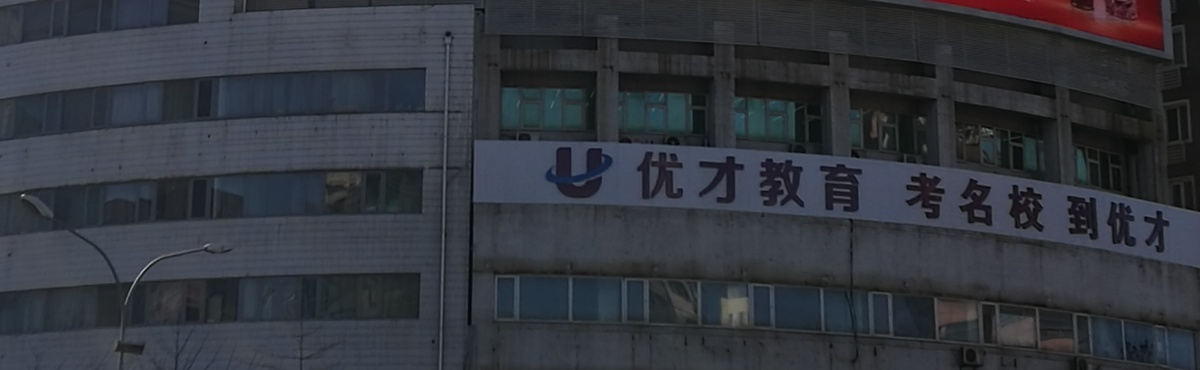text: (913, 169, 928, 237), (929, 169, 944, 237), (945, 169, 960, 237), (961, 169, 976, 237), (977, 169, 992, 237), (993, 169, 1008, 237), (1009, 169, 1024, 237), (1025, 169, 1040, 237), (1073, 189, 1088, 255), (1089, 189, 1104, 255), (1105, 189, 1120, 255), (1121, 189, 1136, 255), (1137, 189, 1152, 255), (1153, 189, 1168, 255), (641, 149, 656, 213), (657, 149, 672, 213), (673, 149, 688, 213), (689, 149, 704, 213), (705, 149, 720, 213), (721, 149, 736, 213), (737, 149, 752, 213), (753, 149, 768, 213), (769, 149, 784, 213), (785, 149, 800, 213), (801, 149, 816, 213), (817, 149, 832, 213), (833, 149, 848, 213), (849, 149, 864, 213), (1041, 169, 1054, 237), (1169, 189, 1176, 255), (1066, 189, 1072, 255), (908, 169, 912, 237), (637, 149, 640, 213), (865, 149, 866, 213)
